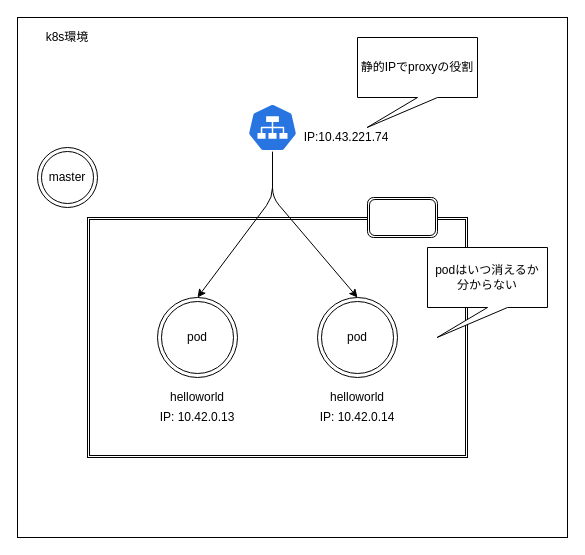
The diagram is 585 pixels wide and 555 high, and some of its shapes have lost their labels. The centre of each missing label's shape, as x and y in pixels:
"port 8080" goes at [402,217].
"service" goes at [272,127].
